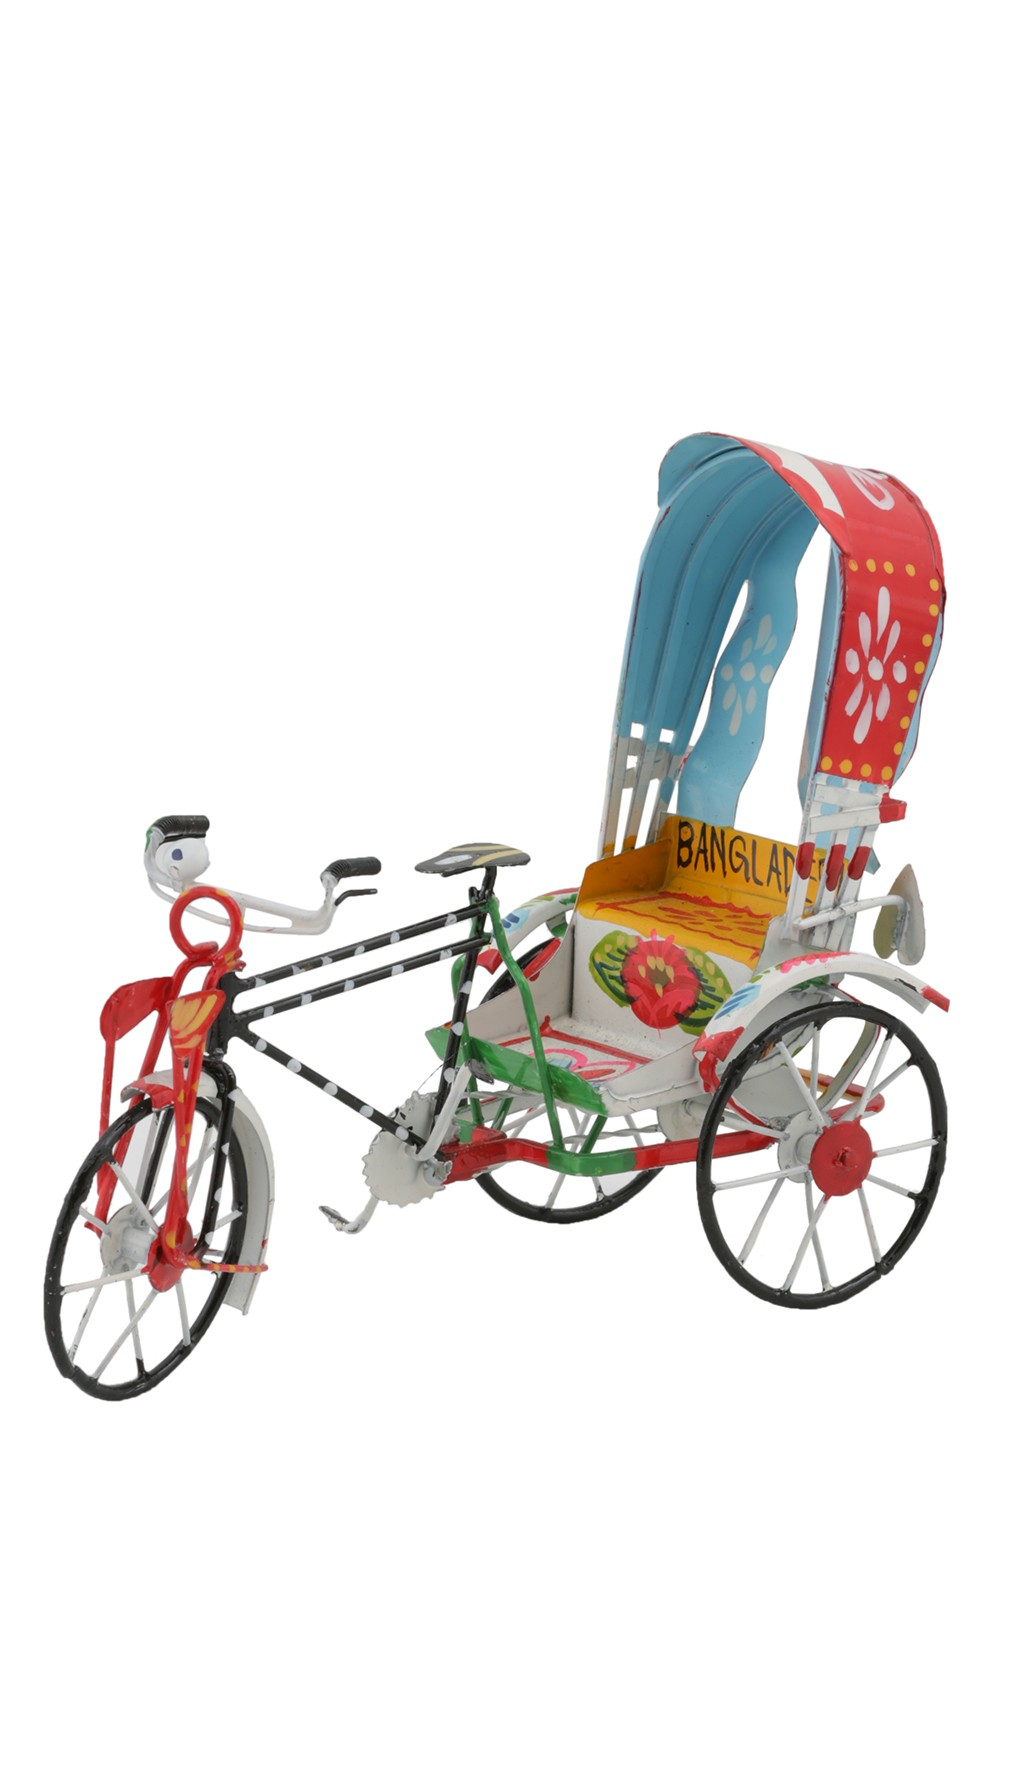Rickshaw: (70, 387, 946, 1398)
